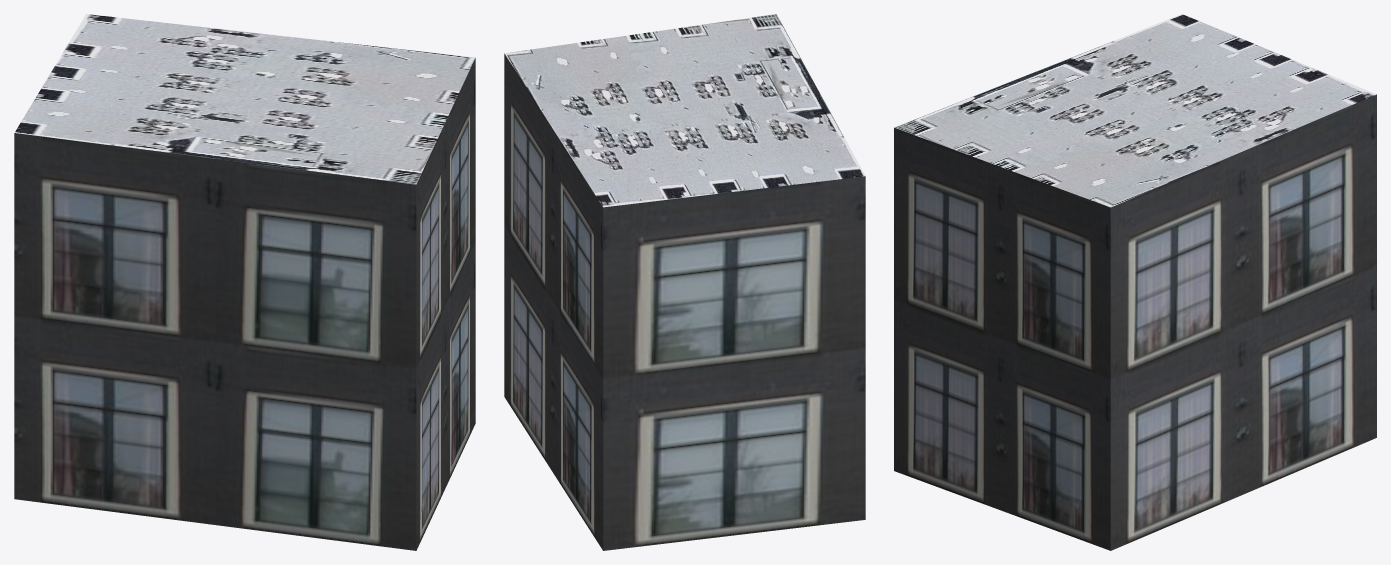
File: ResTex__1825.fbx
3 renders of one model, left to right at view 1: azimuth 30°, elevation 25°; view 2: azimuth 150°, elevation 25°; view 3: azimuth 270°, elevation 25°, orthographic. The views are drawn at different scales.
Parts seen in each view (by area): view 1: CityEngineMaterial_22_m, CityEngineMaterial_m; view 2: CityEngineMaterial_22_m, CityEngineMaterial_m; view 3: CityEngineMaterial_22_m, CityEngineMaterial_m.
Boxes of the visible parts, x1,y1,x2,y2 form: CityEngineMaterial_22_m: [14, 58, 475, 550]; CityEngineMaterial_m: [14, 14, 475, 184]; CityEngineMaterial_22_m: [504, 54, 865, 550]; CityEngineMaterial_m: [504, 14, 865, 207]; CityEngineMaterial_22_m: [894, 94, 1376, 550]; CityEngineMaterial_m: [894, 14, 1376, 207].
Bounding box in the file's own units: 7.25 × 6 × 7.65.
2 materials, 2 textured.
